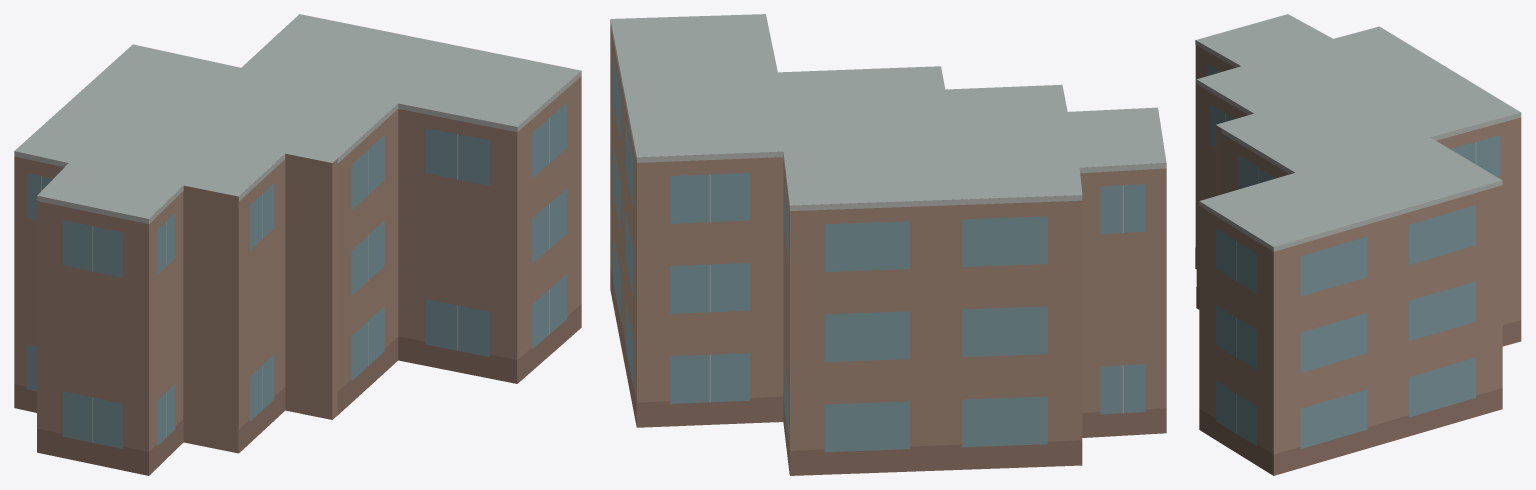
The model's file is survey-upis-32492901.glb.
3 renders of one model, left to right at view 1: azimuth 30°, elevation 25°; view 2: azimuth 150°, elevation 25°; view 3: azimuth 270°, elevation 25°, orthographic. The views are drawn at different scales.
Visible parts, largest first — view 1: survey-upis-32492901.tmp; view 2: survey-upis-32492901.tmp; view 3: survey-upis-32492901.tmp.
Boxes of the visible parts, bbox=[...] form: survey-upis-32492901.tmp: bbox=[14, 14, 581, 475]; survey-upis-32492901.tmp: bbox=[610, 14, 1166, 475]; survey-upis-32492901.tmp: bbox=[1195, 14, 1521, 475].
Size of the model in its own units: 25.91 by 11.85 by 15.31.
